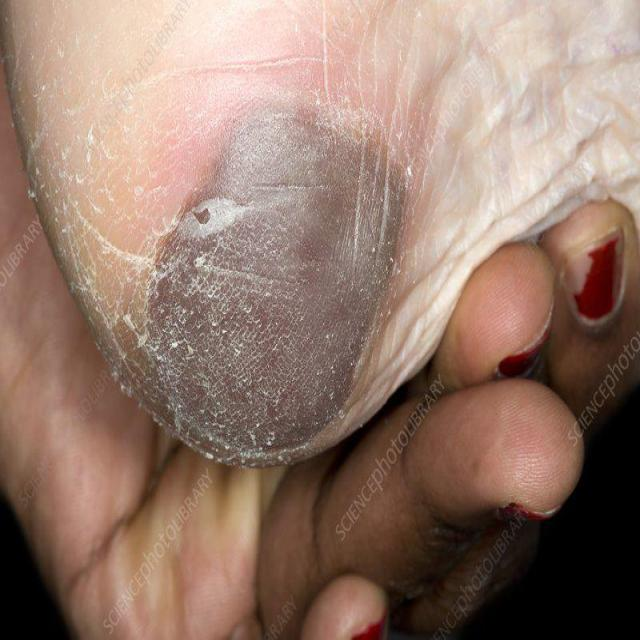DTI: (142, 107, 402, 465)
